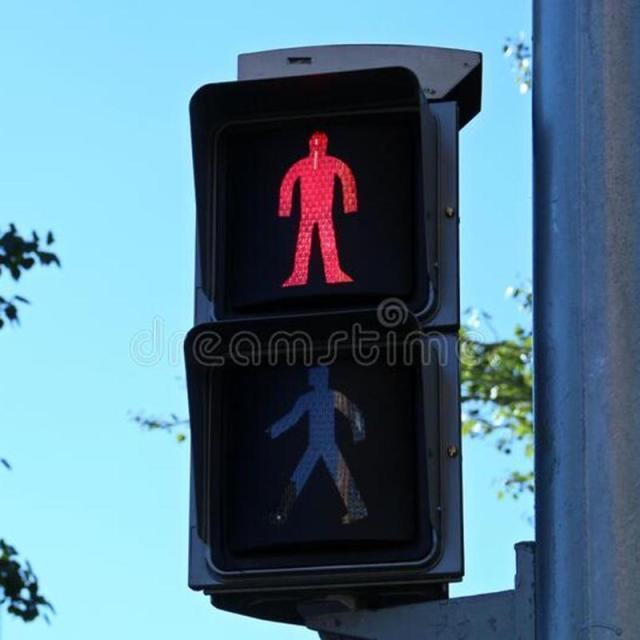red-crossing: (216, 122, 413, 300)
